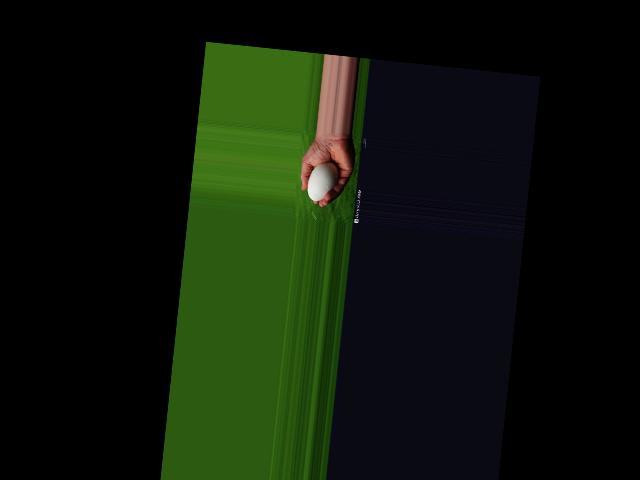egg: (306, 159, 340, 202)
